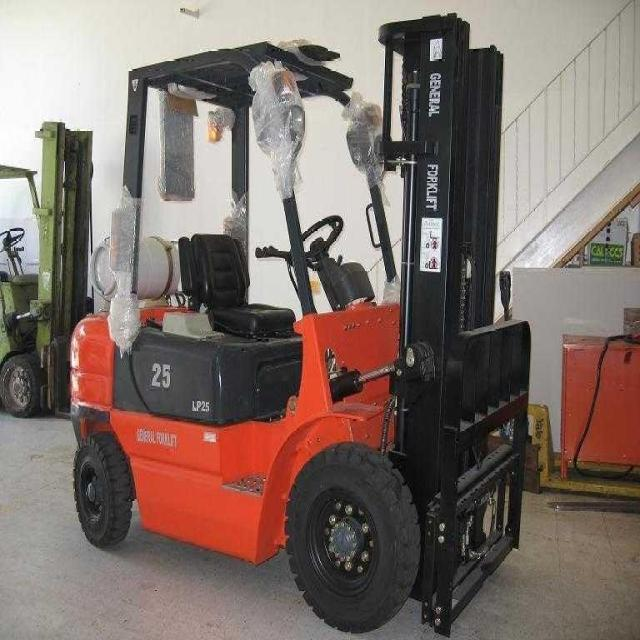forklift: (74, 18, 523, 639), (0, 124, 94, 416)
